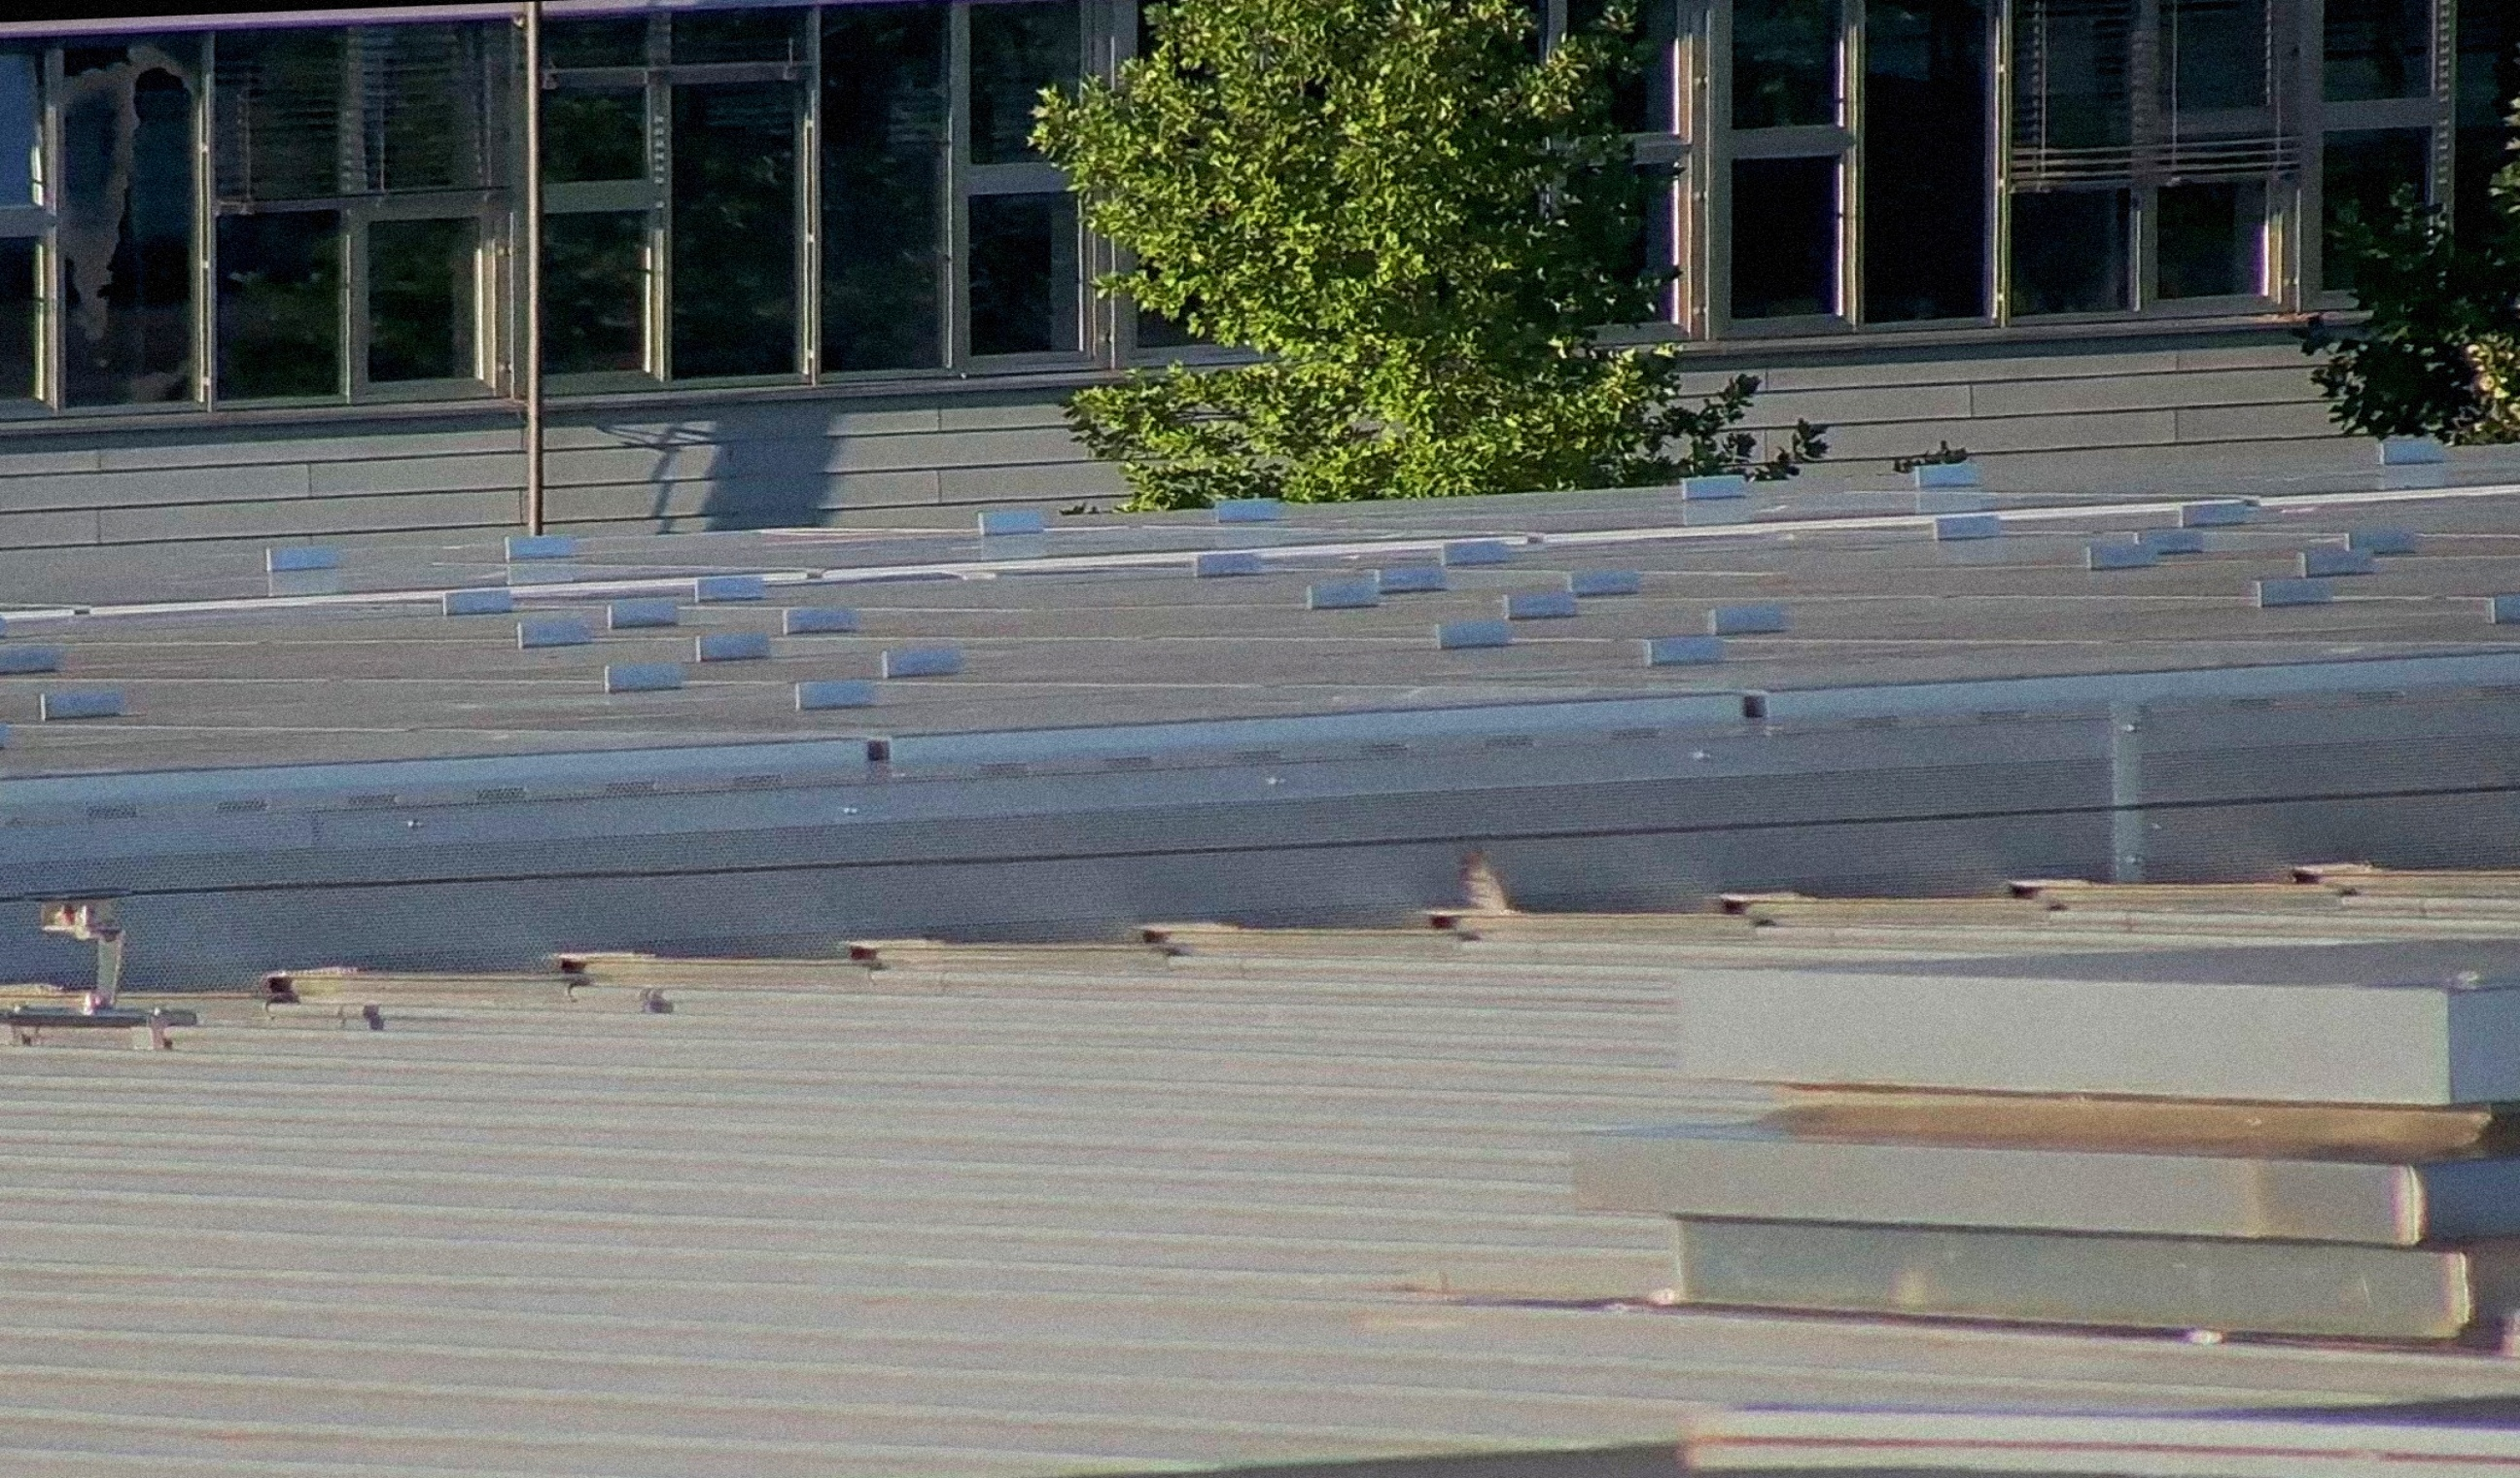Other: (1430, 827, 1537, 950)
